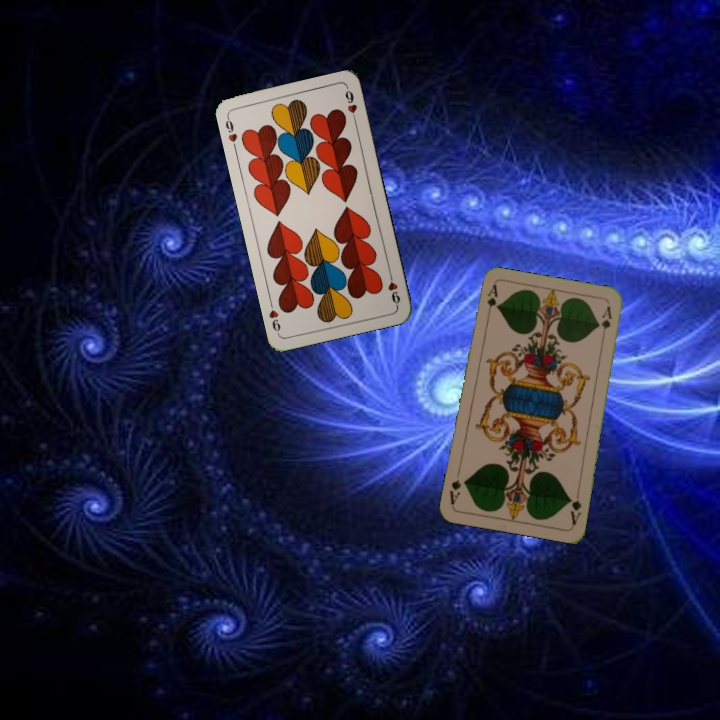GA: (566, 487, 584, 528), (482, 281, 499, 322)
H9: (384, 268, 403, 308), (221, 112, 240, 152)
